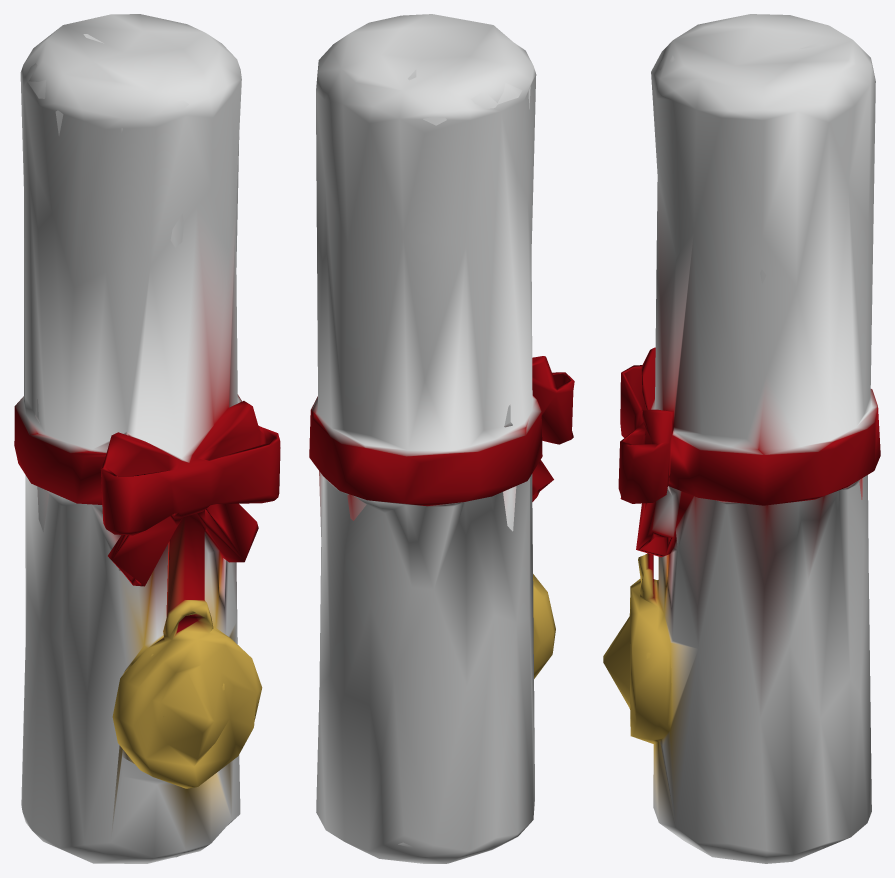
The model's file is gen3d-diploma-lod1.glb.
The picture shows the model from 3 angles, left to right: view 1: azimuth 30°, elevation 25°; view 2: azimuth 150°, elevation 25°; view 3: azimuth 270°, elevation 25°; orthographic projection.
Visible parts, largest first — view 1: part_0; view 2: part_0; view 3: part_0.
Part boxes in pixels (x1,y1,x2,y2): part_0: [14, 14, 280, 863]; part_0: [309, 14, 574, 863]; part_0: [603, 14, 880, 863].
Bounding box in the file's own units: 0.267 × 0.9988 × 0.3184.
